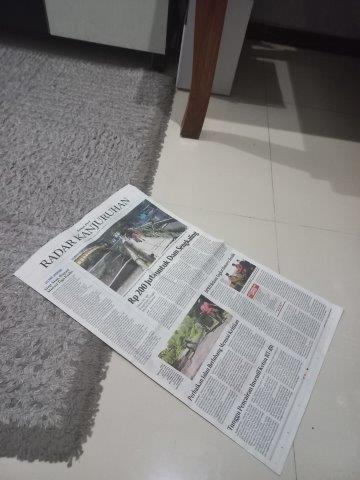kertas: (14, 183, 343, 475)
